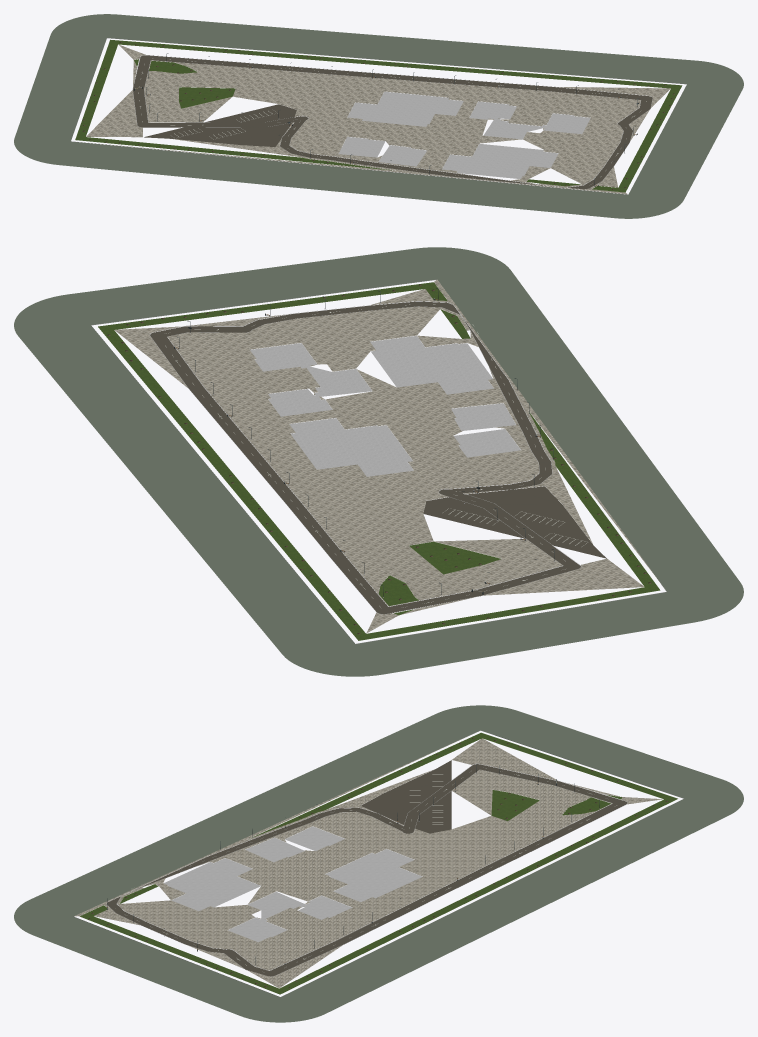
Rendered from site-lod2.glb.
The picture shows the model from 3 angles, top to bottom: view 1: azimuth 30°, elevation 25°; view 2: azimuth 150°, elevation 25°; view 3: azimuth 270°, elevation 25°; orthographic projection. The views are drawn at different scales.
Parts seen in each view (by area): view 1: site_MATERIAL_BATCH; view 2: site_MATERIAL_BATCH; view 3: site_MATERIAL_BATCH.
Boxes of the visible parts, box(x1,y1,x2,y2) form: site_MATERIAL_BATCH: box(14, 14, 743, 218); site_MATERIAL_BATCH: box(14, 247, 743, 676); site_MATERIAL_BATCH: box(14, 705, 743, 1022).
Size of the model in its own units: 377 by 5.39 by 366.
Materials: 10 (4 with a texture image).
